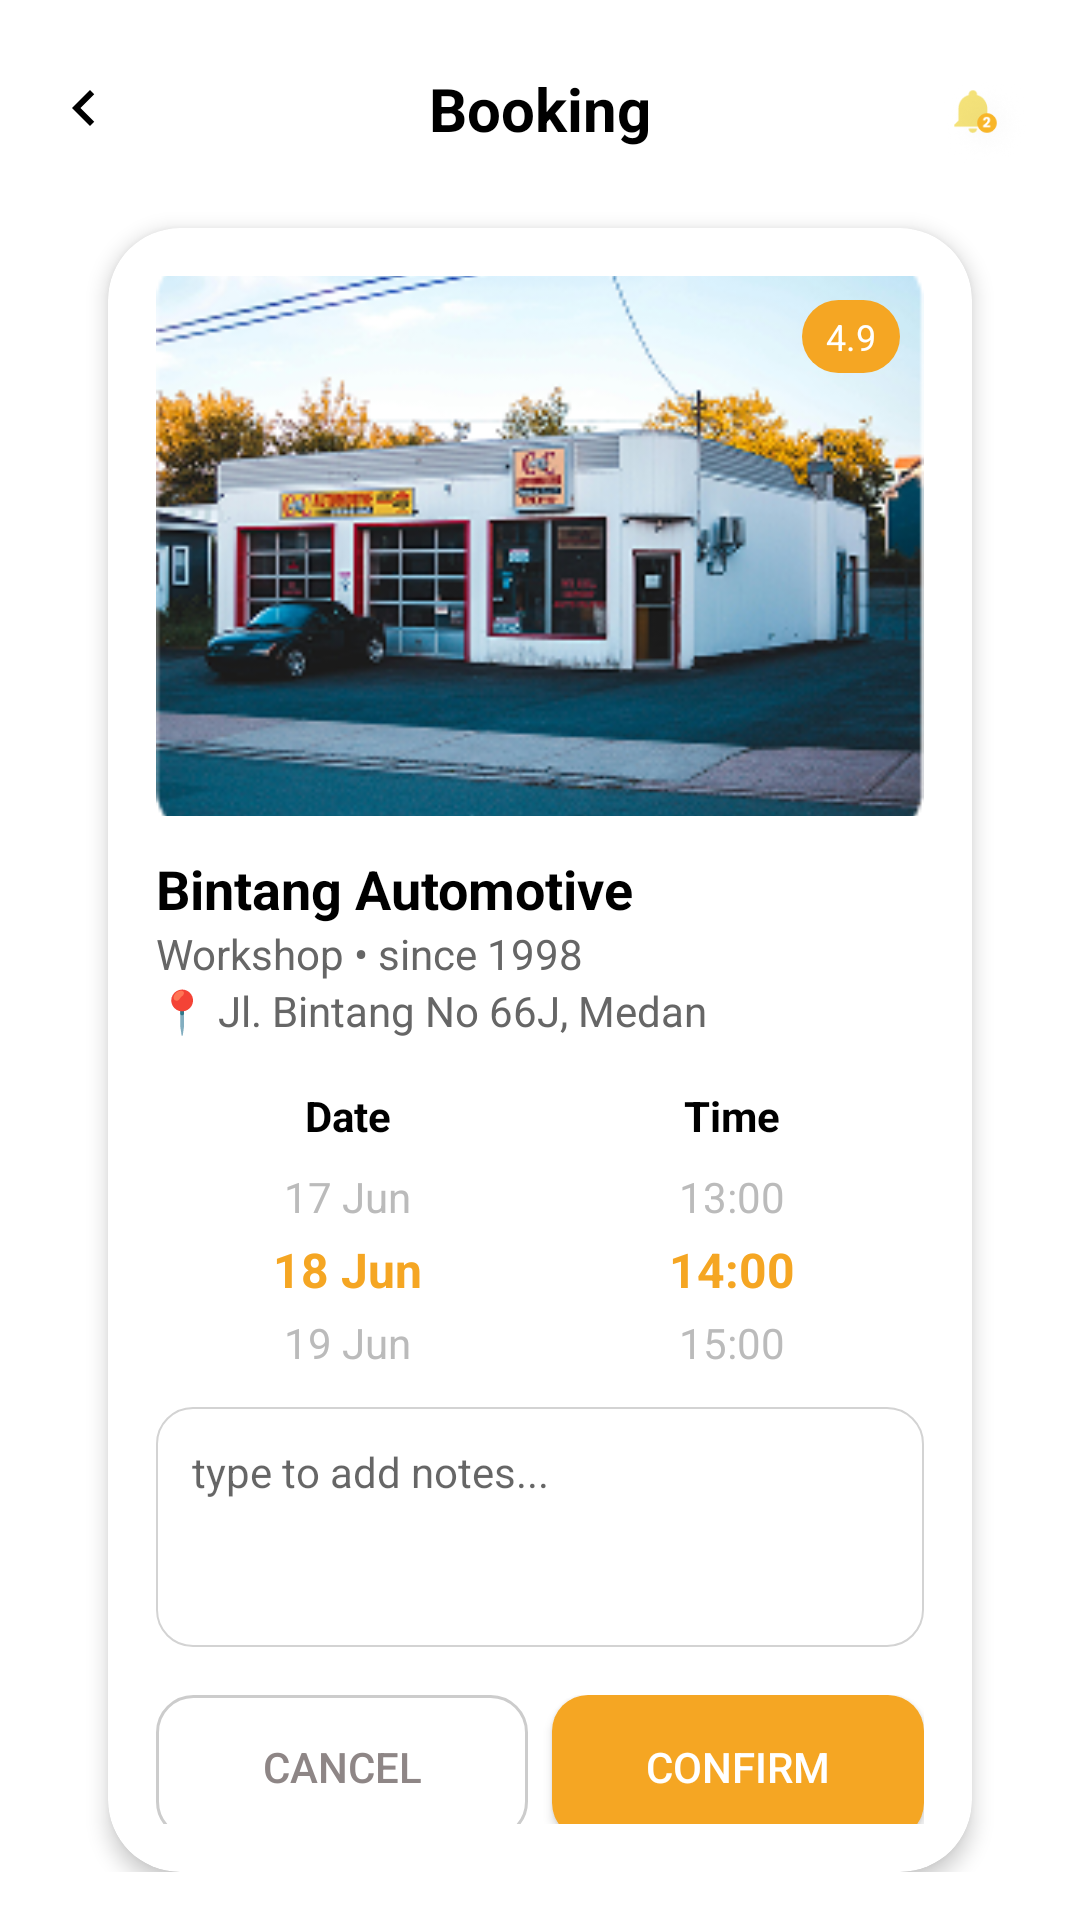

Icon click points for this 1080*1920 phone screenshot, format (x=x, y=y):
chevron left: (x=83, y=108)
Notifications: (x=975, y=111)
